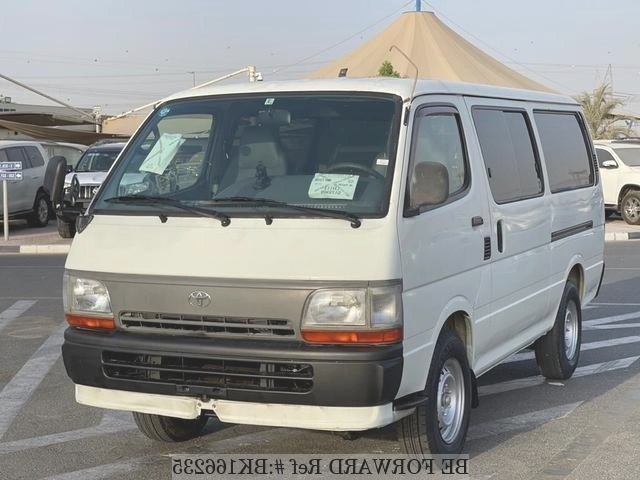van: (56, 81, 598, 441)
